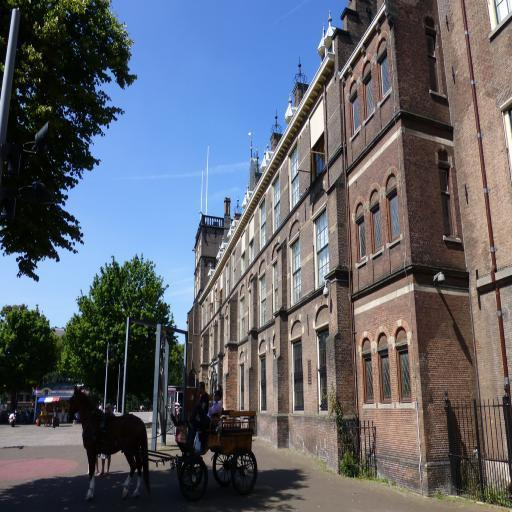horse: (64, 381, 150, 502)
